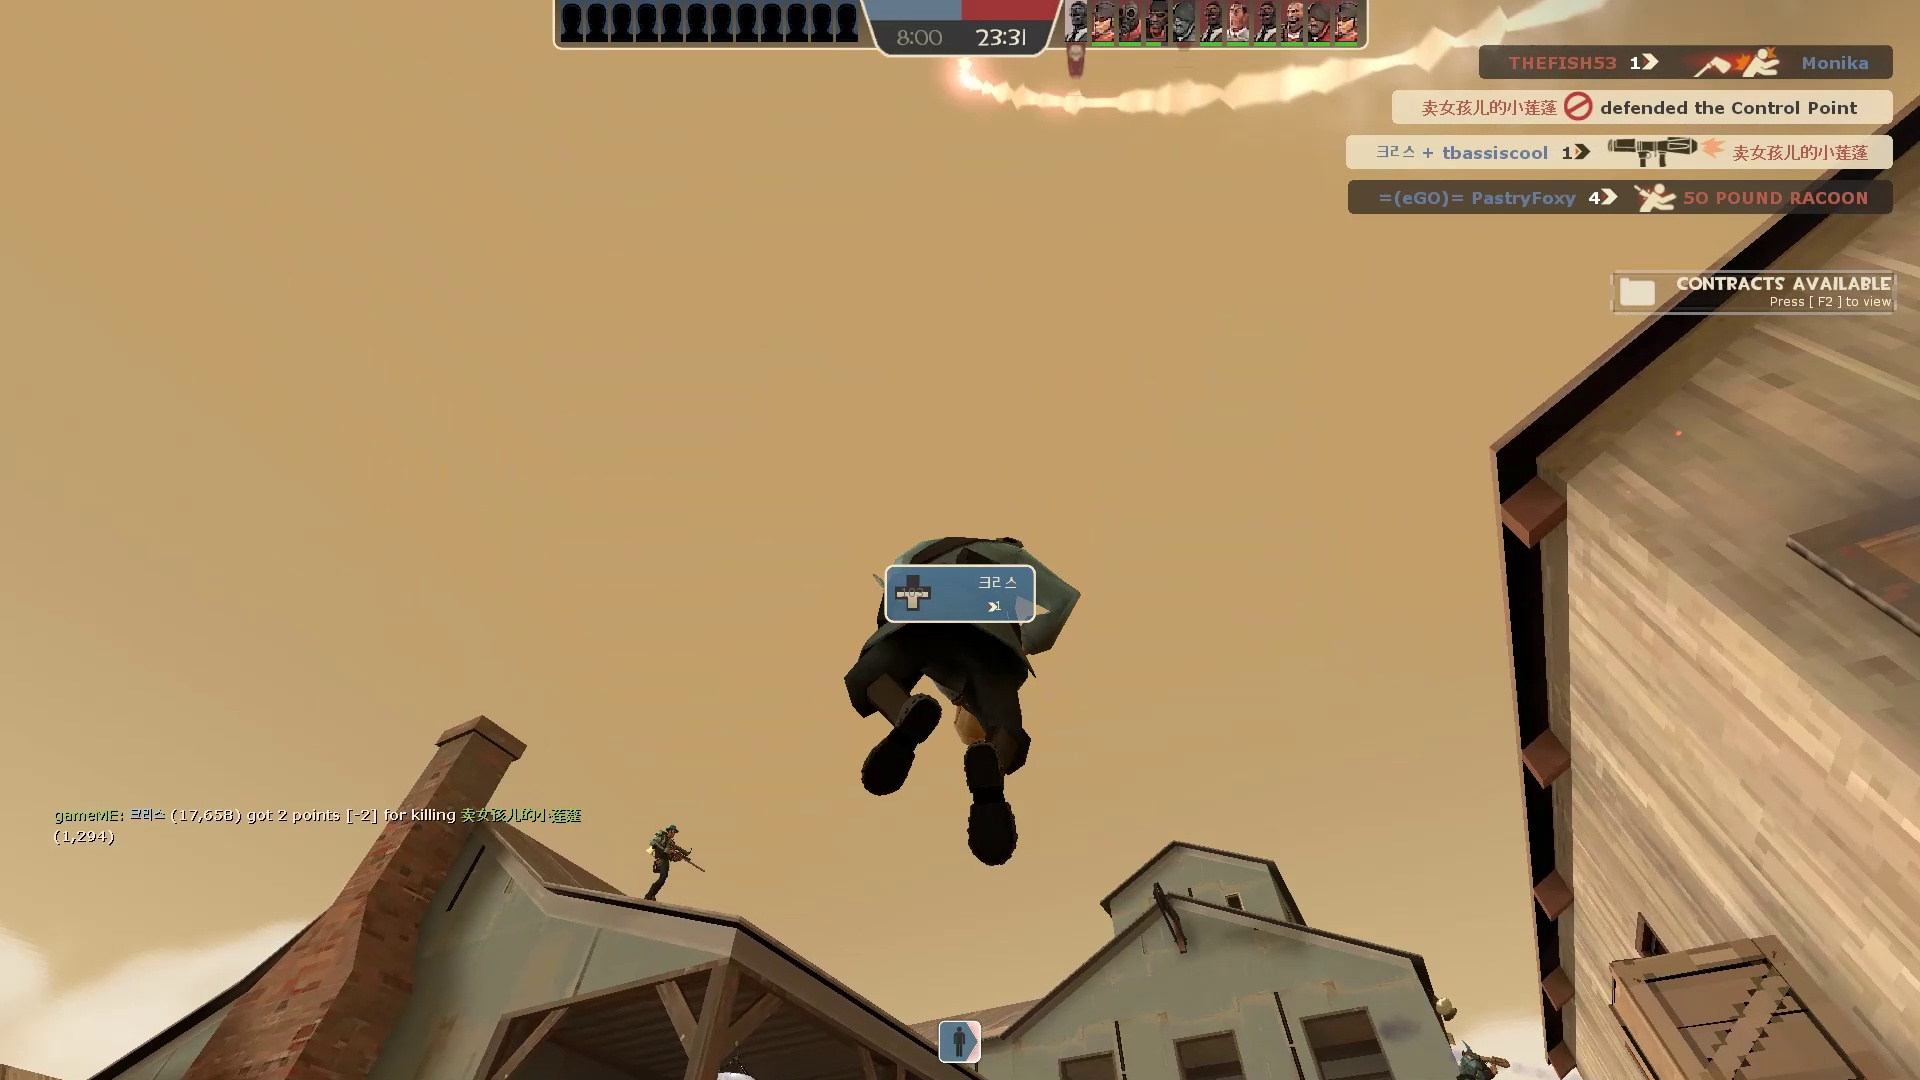blu_sniper: (634, 823, 709, 909)
blu_soldier: (828, 527, 1089, 868)
